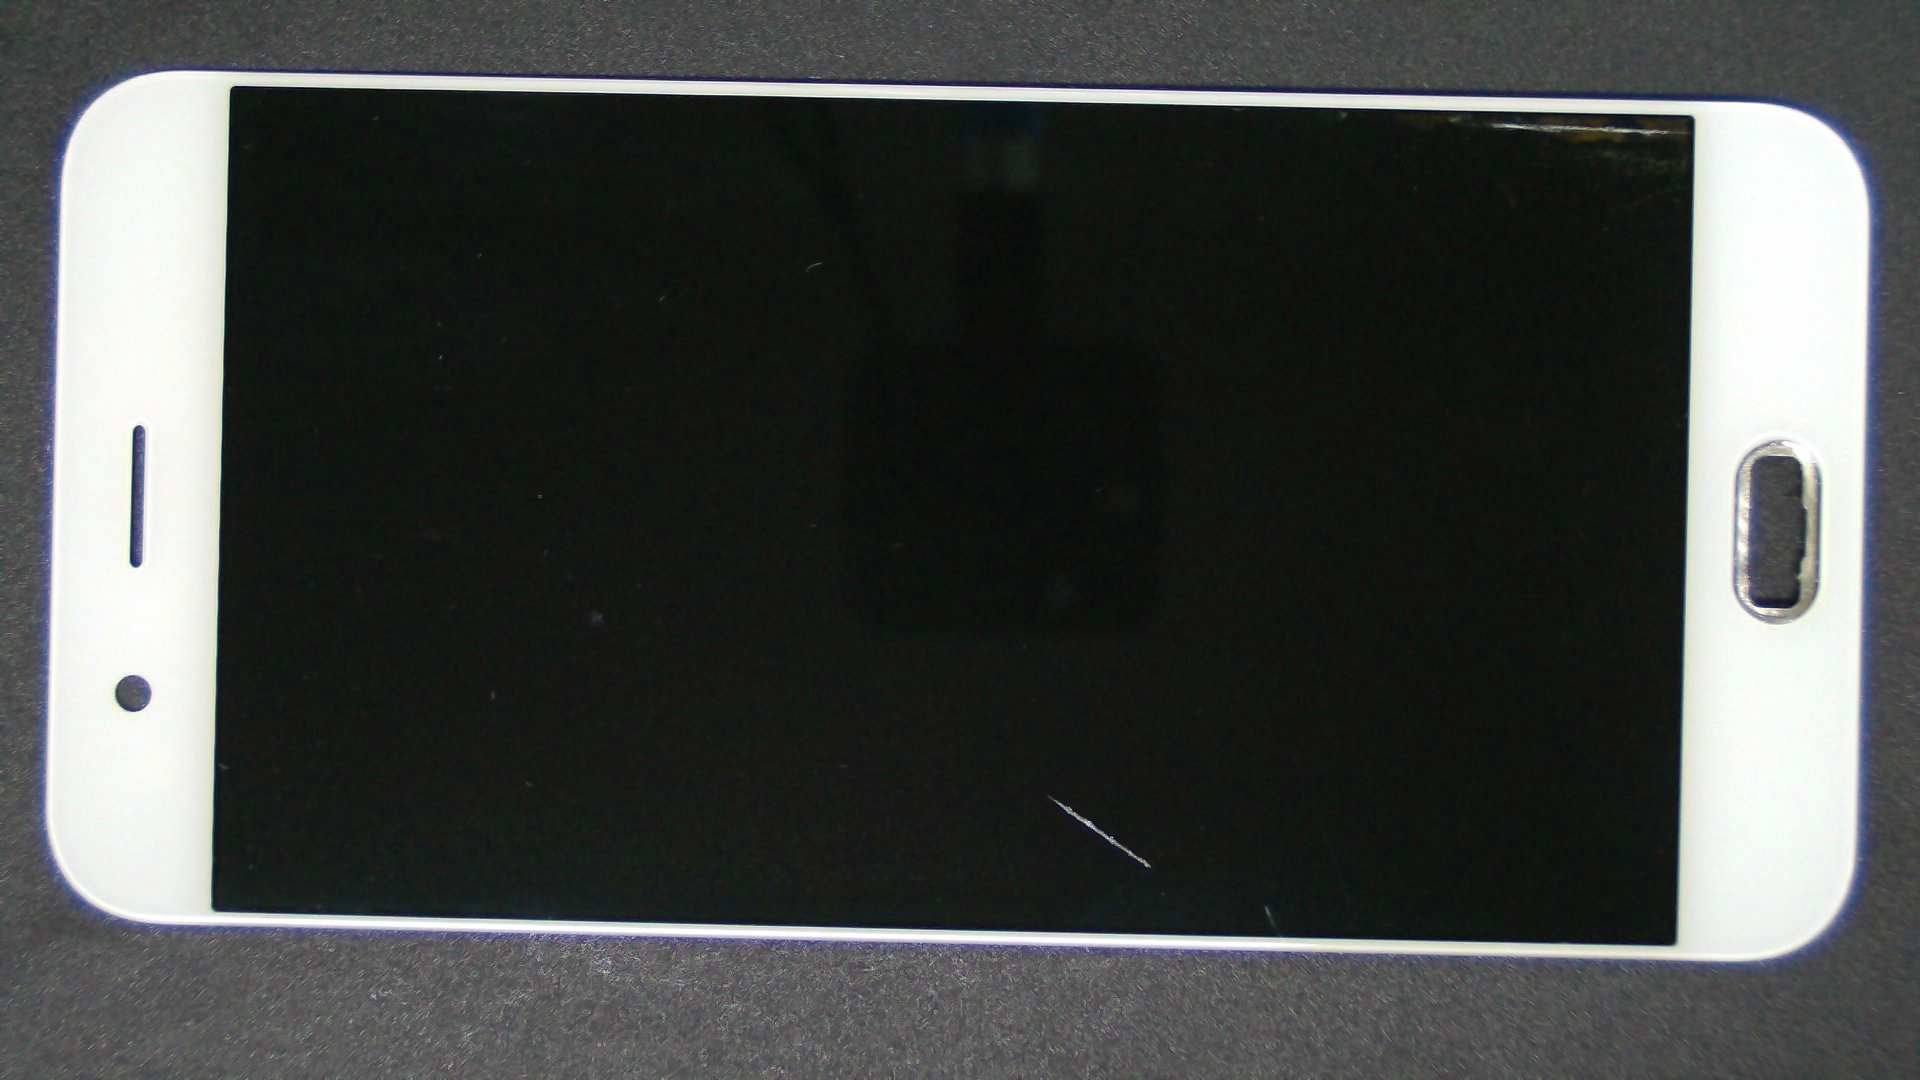oil: (524, 396, 1571, 1080), (741, 58, 1920, 186)
